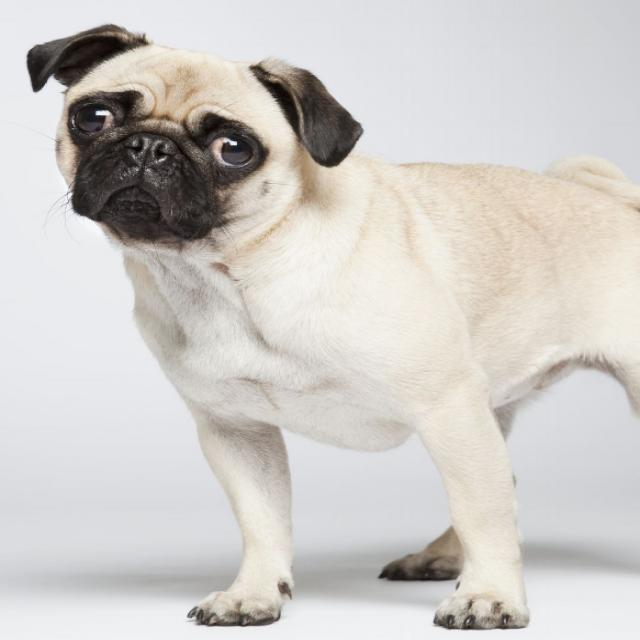dogs: (22, 17, 640, 632)
